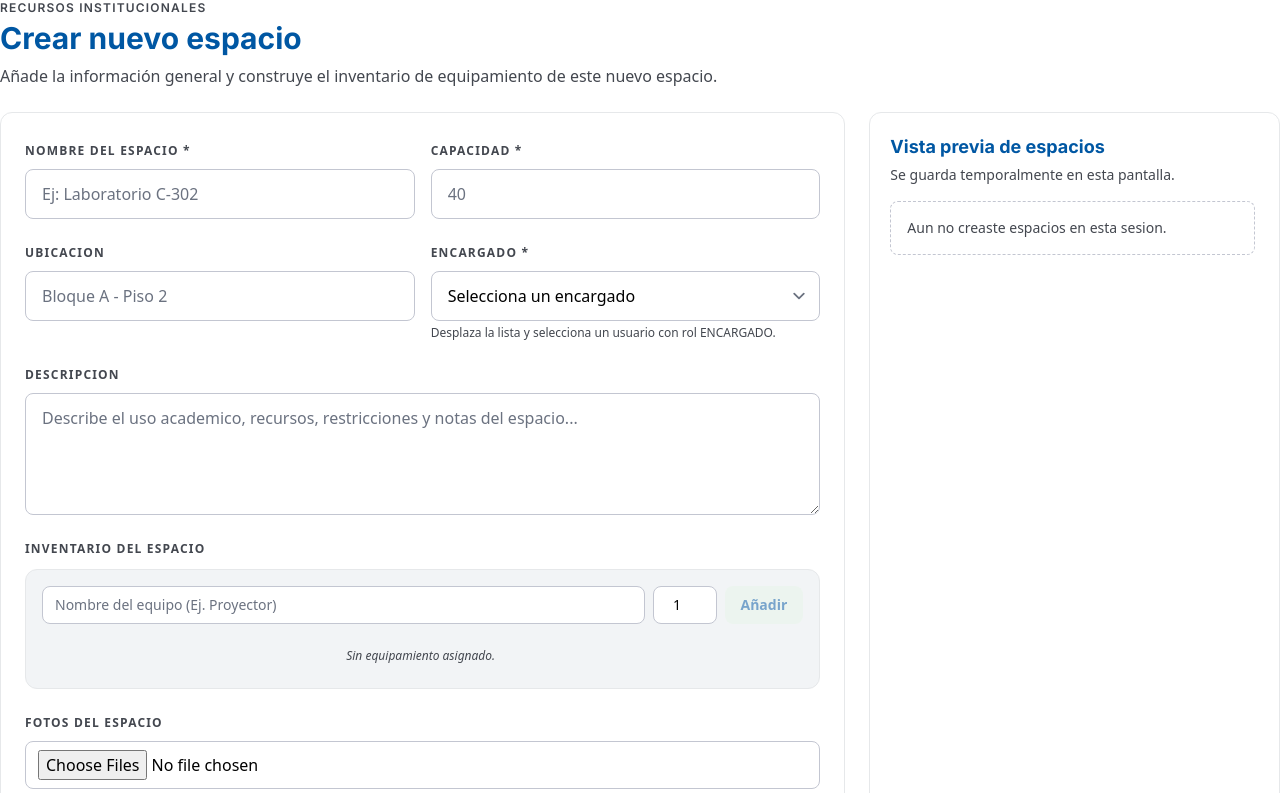
Test: AdminCreateSpaceView Component › debería manejar error del backend si la creación del espacio falla
In the field with test id "create-space-name": (220, 194) [25,169,415,219], type "Aula Magna"
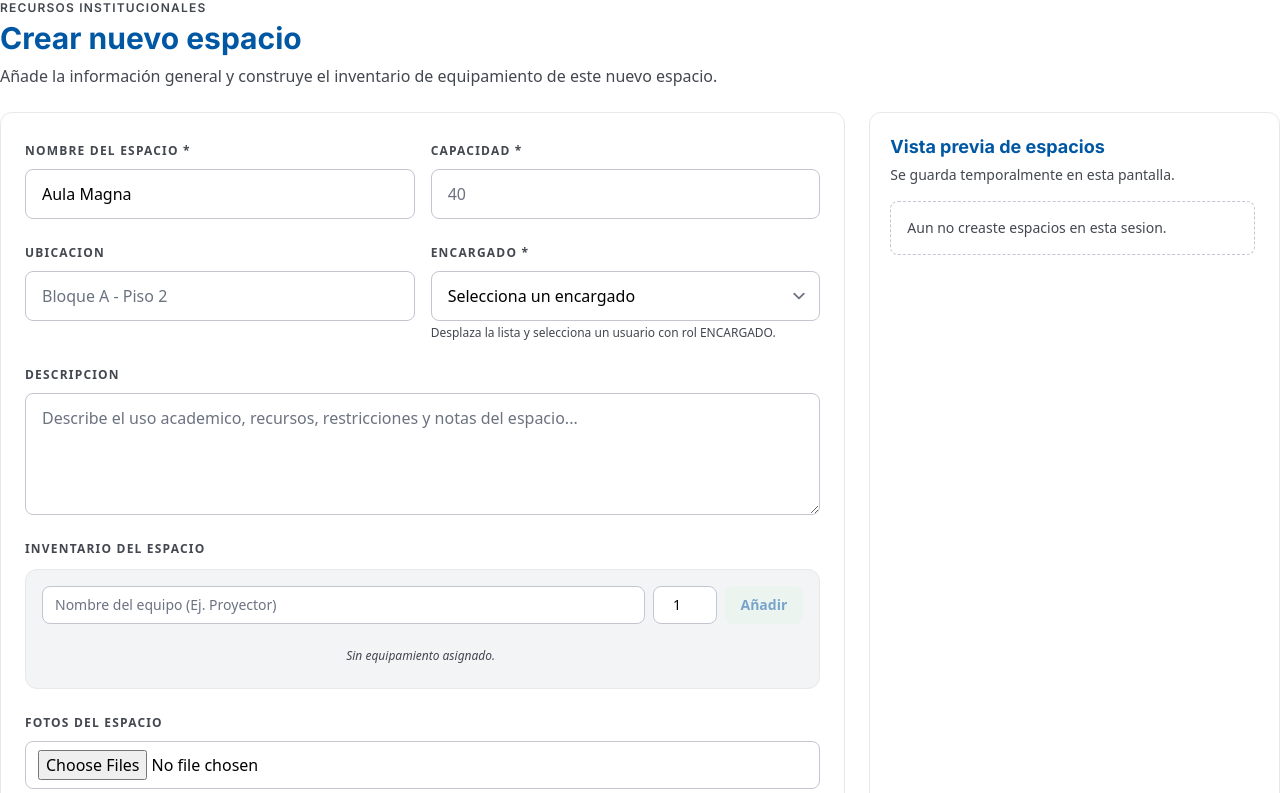
In the number field with test id "create-space-capacity": (626, 194) [431,169,820,219], type "100"
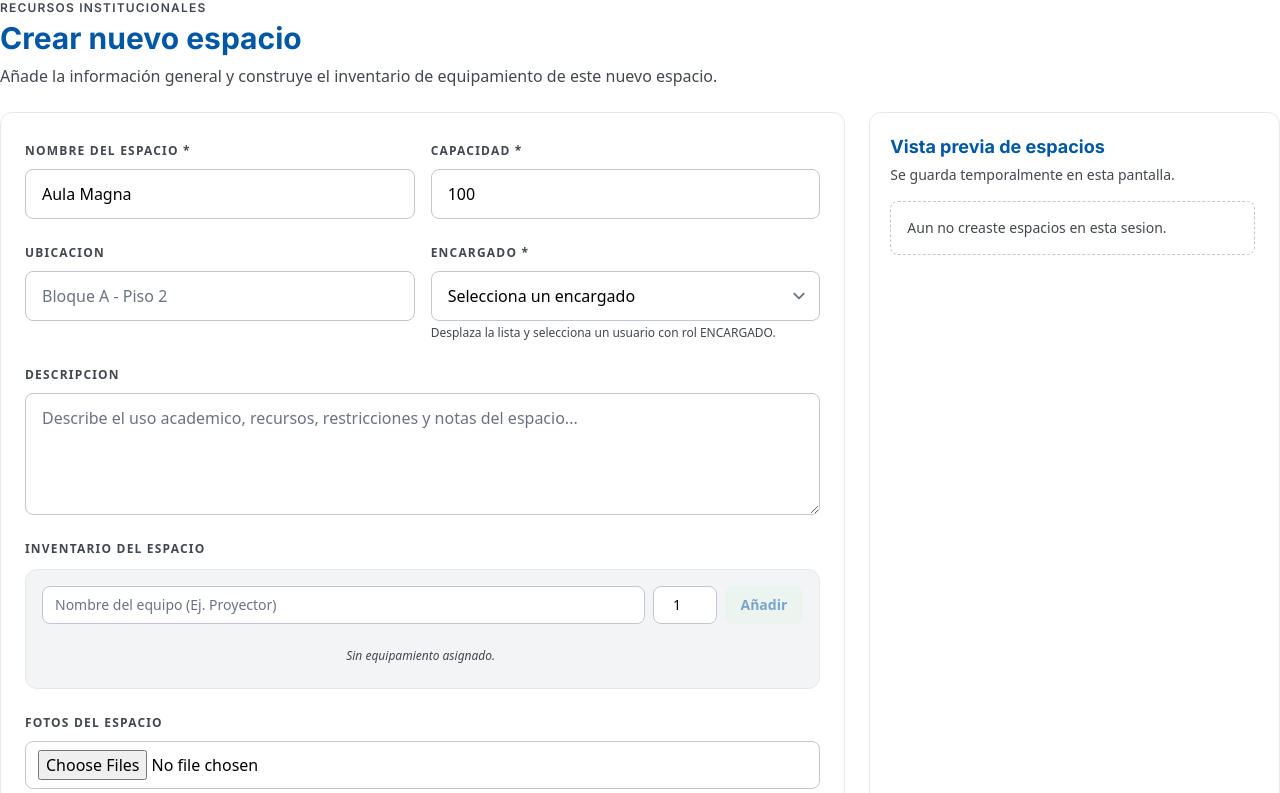
Select "Encargado Carlos" in the dropdown with test id "create-space-userInCharge": (626, 296) [431,271,820,321]
(page scrolled)
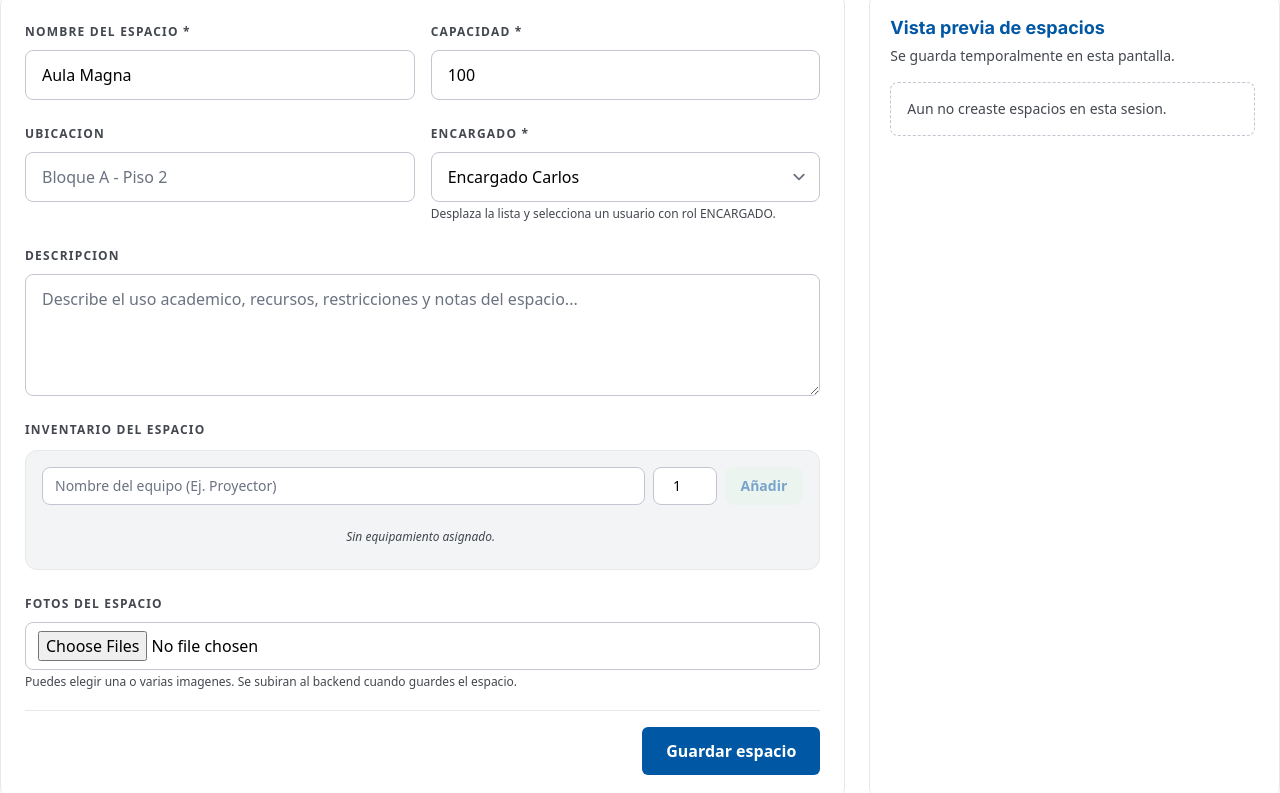
Click the button with test id "create-space-submit-button": (731, 751) [642,727,820,775]
(page scrolled)
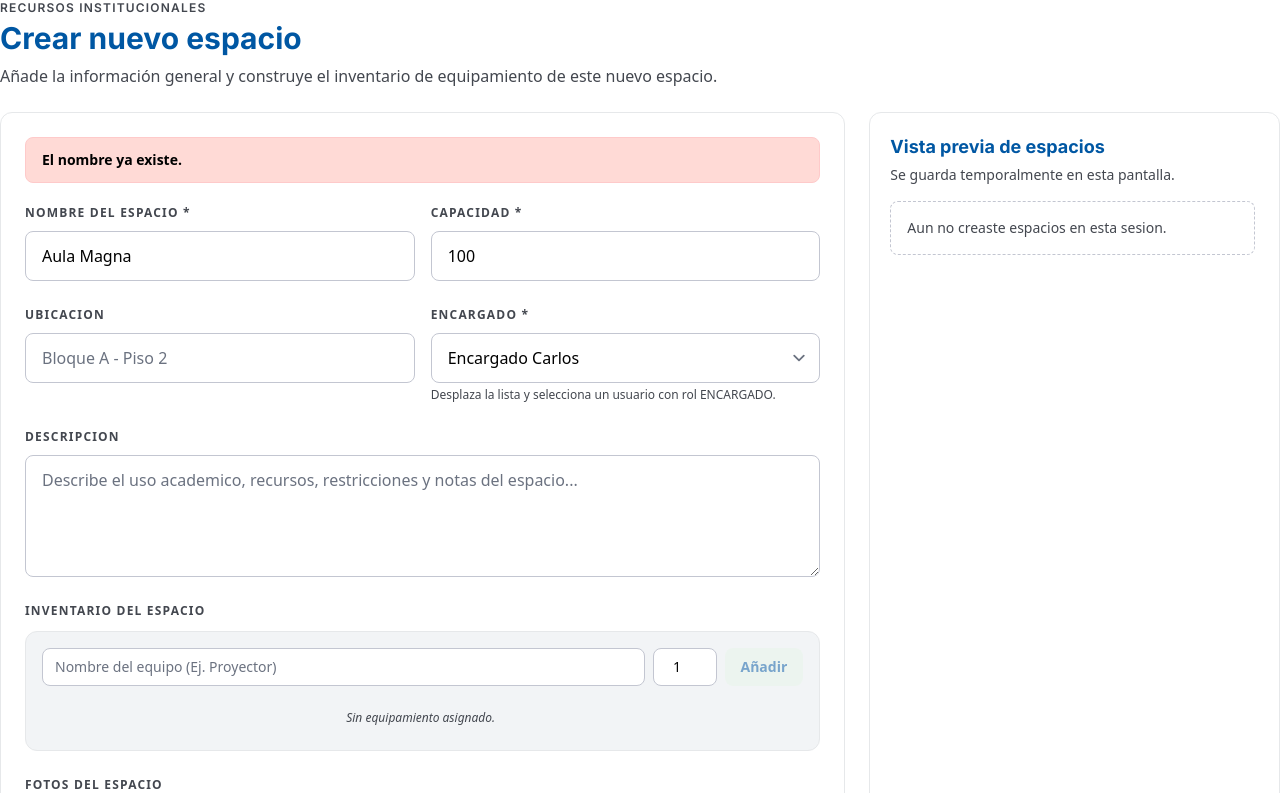
Expected: the text "El nombre ya existe." is shown, [25,137,820,183]
